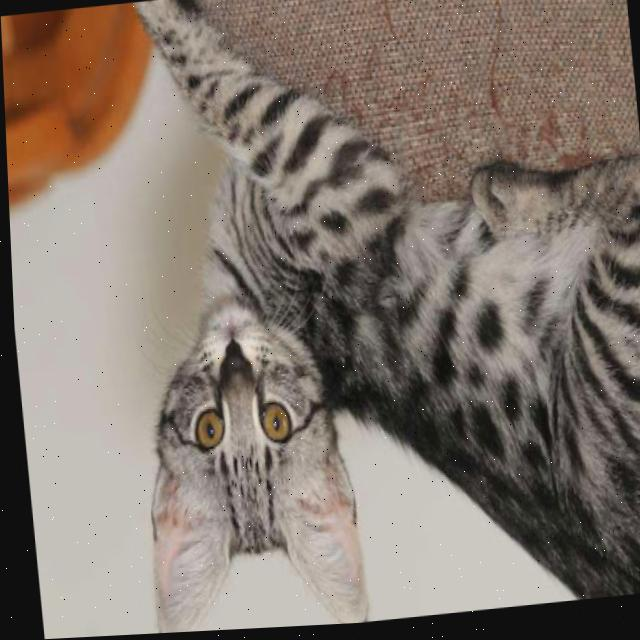Savannah: (87, 0, 640, 636)
